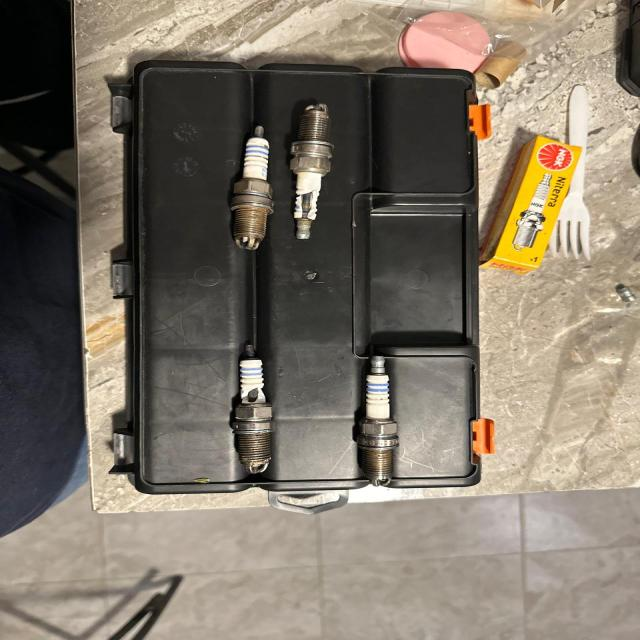damaged_spark-plug: (222, 334, 284, 479), (286, 97, 344, 242)
spark-plug: (352, 349, 401, 489), (225, 123, 276, 253)
